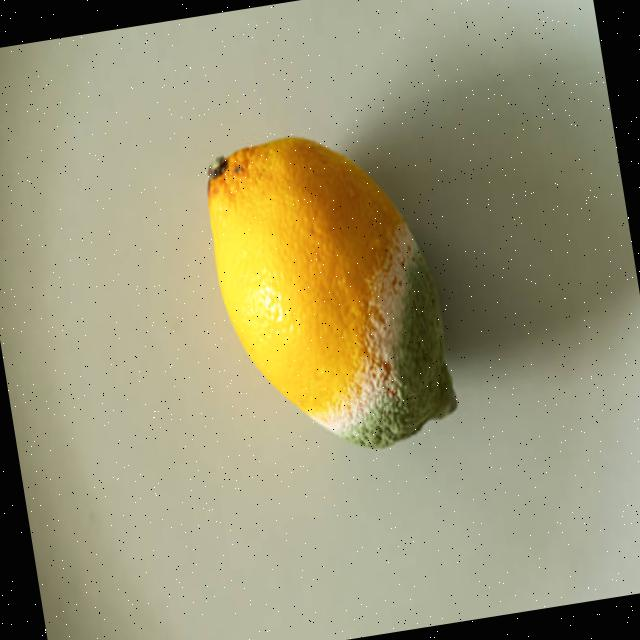Rotten: (193, 116, 464, 473)
